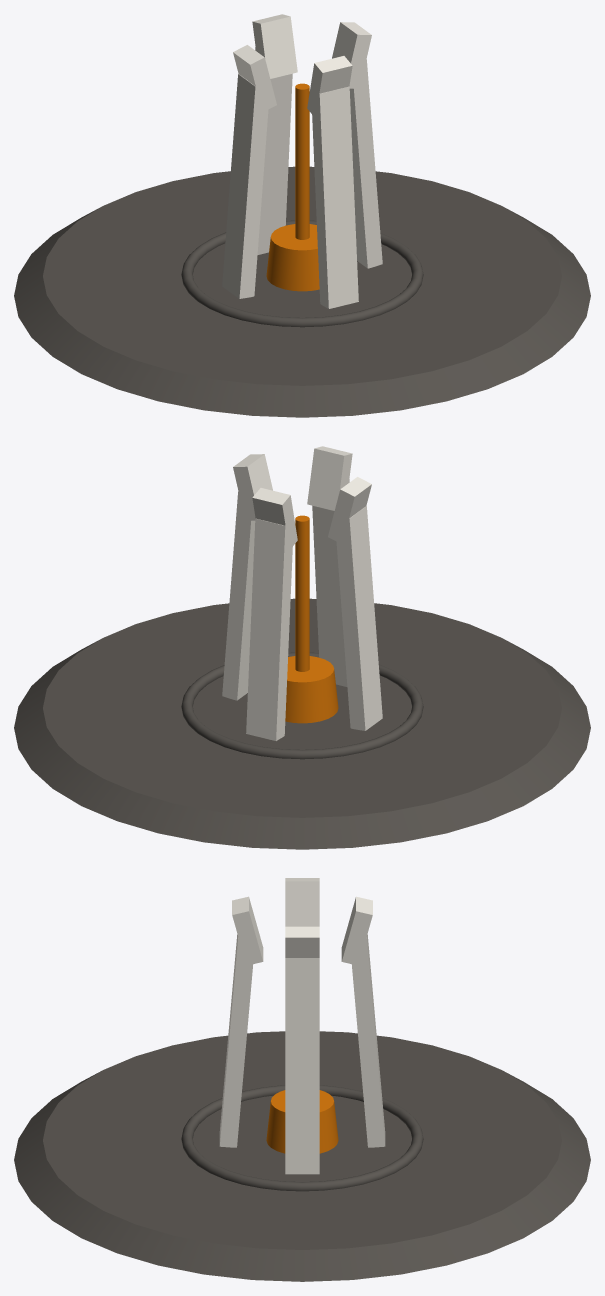
The model's file is korkyt-ata.glb.
3 views of the same model, one above another, from view 1: azimuth 30°, elevation 25°; view 2: azimuth 150°, elevation 25°; view 3: azimuth 270°, elevation 25° (orthographic).
Bounding box in the file's own units: 40 × 19.59 × 40.
